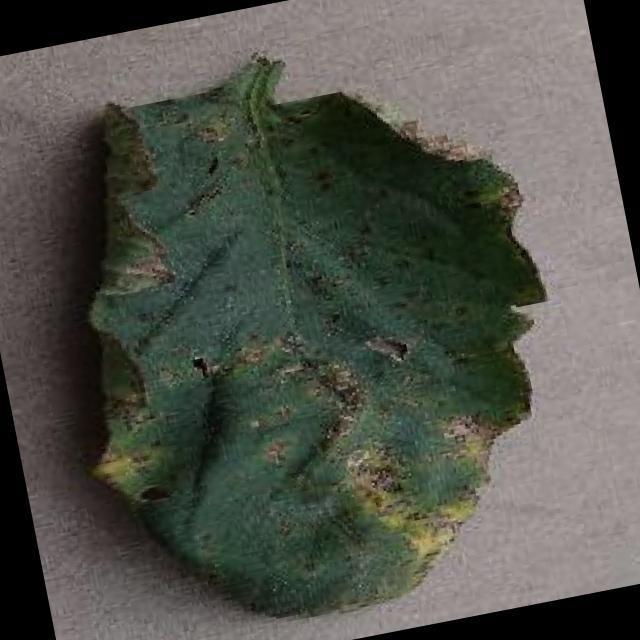Tomato bacterial spot leaf: (14, 18, 615, 640)
